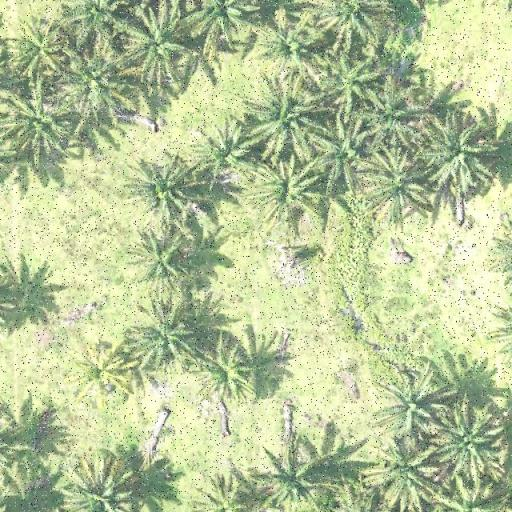Ganoderma: (70, 352, 127, 402), (204, 349, 249, 395), (20, 25, 60, 66)
